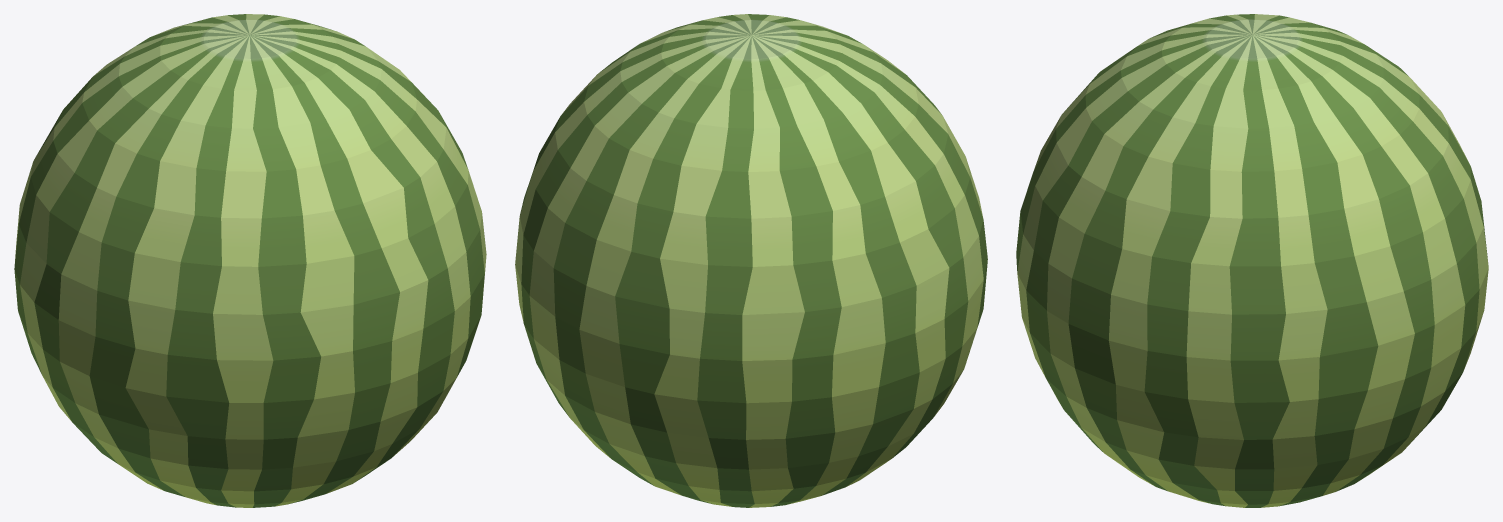
The model's file is SM_Food_Watermelon_Full.glb.
3 renders of one model, left to right at view 1: azimuth 30°, elevation 25°; view 2: azimuth 150°, elevation 25°; view 3: azimuth 270°, elevation 25°, orthographic.
Parts seen in each view (by area): view 1: SM_Food_Watermelon_Full; view 2: SM_Food_Watermelon_Full; view 3: SM_Food_Watermelon_Full.
Part boxes in pixels (x1,y1,x2,y2): SM_Food_Watermelon_Full: (14, 14, 486, 507); SM_Food_Watermelon_Full: (515, 14, 987, 507); SM_Food_Watermelon_Full: (1016, 14, 1488, 507).
Bounding box in the file's own units: 0.2824 × 0.2986 × 0.2829.
1 material, 1 textured.
